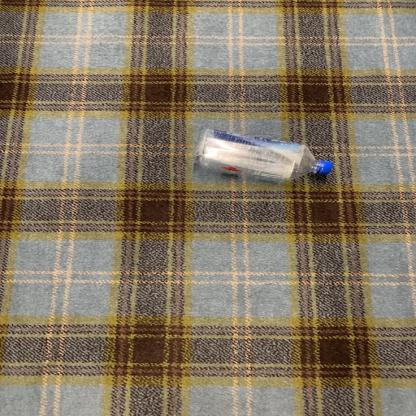trash: (193, 125, 334, 186)
